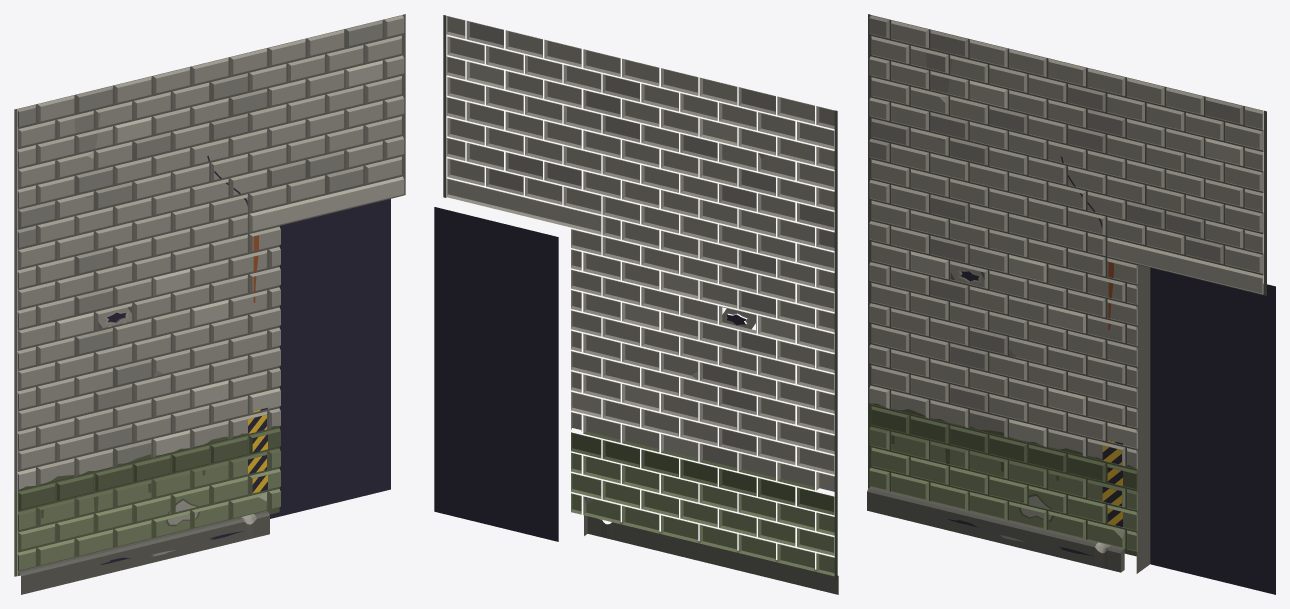
Rendered from wall_panel_door_b.glb.
The picture shows the model from 3 angles, left to right: view 1: azimuth 30°, elevation 25°; view 2: azimuth 150°, elevation 25°; view 3: azimuth 330°, elevation 25°; orthographic projection. The views are drawn at different scales.
Parts seen in each view (by area): view 1: Wall; view 2: Wall; view 3: Wall.
Boxes of the visible parts, x1,y1,x2,y2 form: Wall: (14, 14, 405, 594); Wall: (434, 15, 838, 594); Wall: (867, 14, 1275, 594).
Bounding box in the file's own units: 5.08 × 6 × 0.3525.
